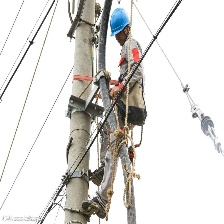helmet: (108, 7, 132, 42)
person: (103, 6, 148, 195)
